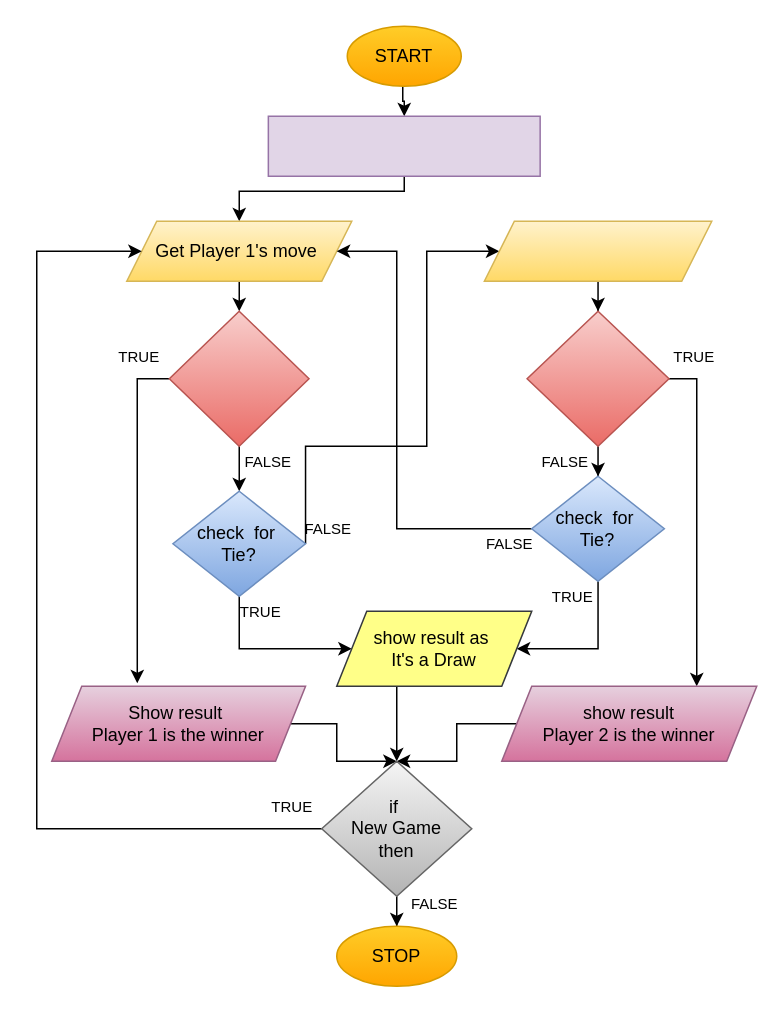
Some shapes in this 783 by 1013 pixel diagram are drawn without their labels. Here are the shapes that lost their labels. From the top down, the box of each, then its label:
(267, 115, 540, 176): Declare variables as Player 1=x , Player 2=o
(483, 220, 712, 281): Get Player 2's move
(168, 310, 309, 446): check If player 1 win?
(526, 310, 669, 446): check if player 2 win?
